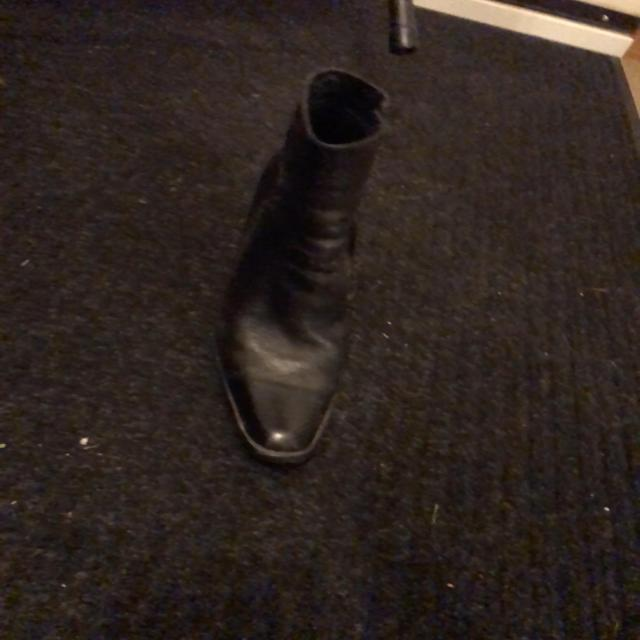shoe: (213, 69, 387, 468)
